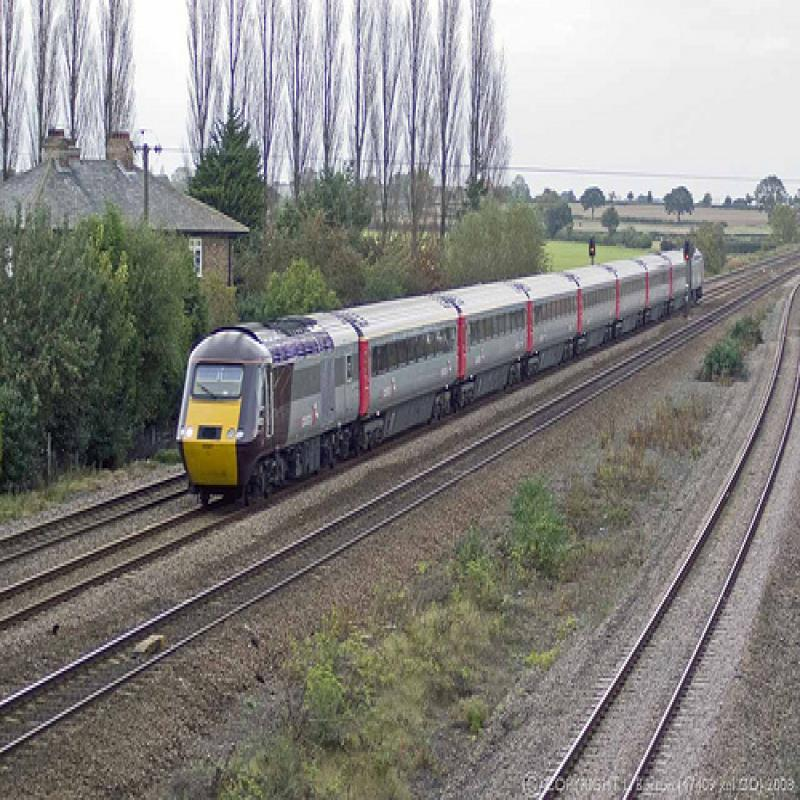train: (179, 247, 707, 512)
